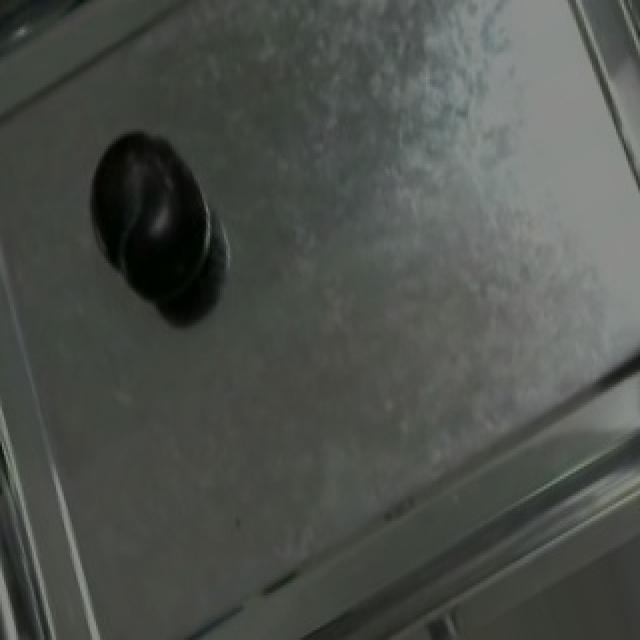Fruit: (68, 109, 228, 330)
